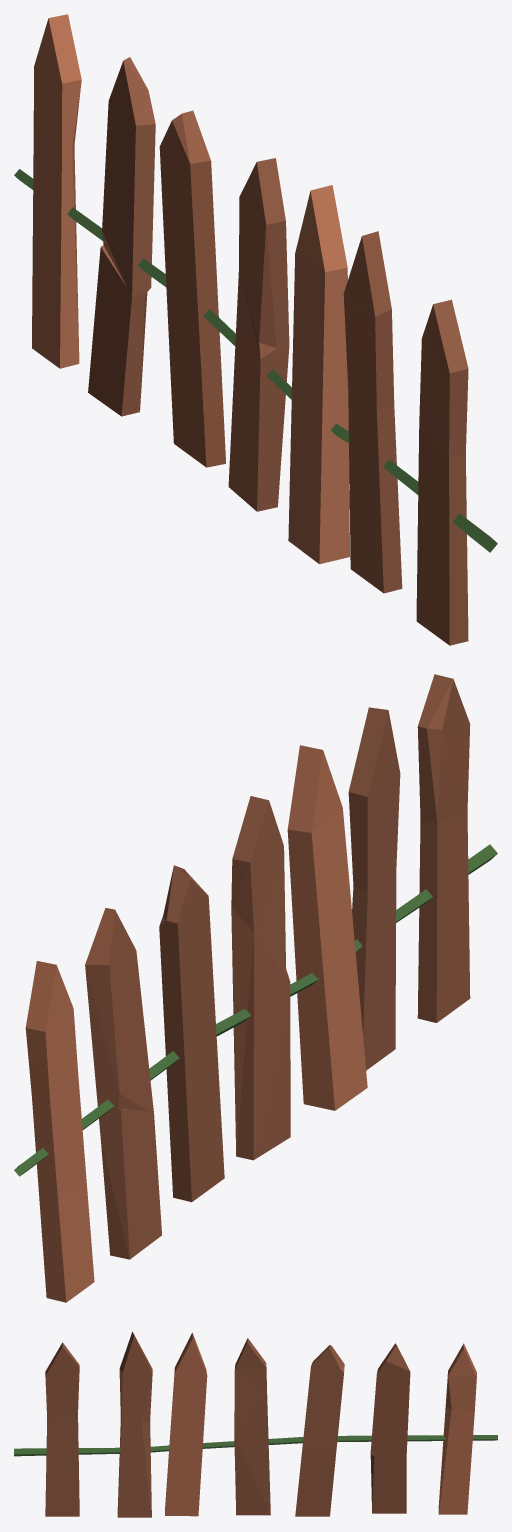
File: Fence_2_2 Village.fbx
3 renders of one model, top to bottom at view 1: azimuth 30°, elevation 25°; view 2: azimuth 150°, elevation 25°; view 3: azimuth 270°, elevation 25°, orthographic. The views are drawn at different scales.
Visible parts, largest first — view 1: Fence_2_2; view 2: Fence_2_2; view 3: Fence_2_2.
Boxes of the visible parts, left/top/right/bottom form: Fence_2_2: left=14, top=14, right=497, bottom=645; Fence_2_2: left=14, top=674, right=497, bottom=1302; Fence_2_2: left=14, top=1331, right=497, bottom=1517.
Size of the model in its own units: 0.1621 by 1.25 by 3.03.
